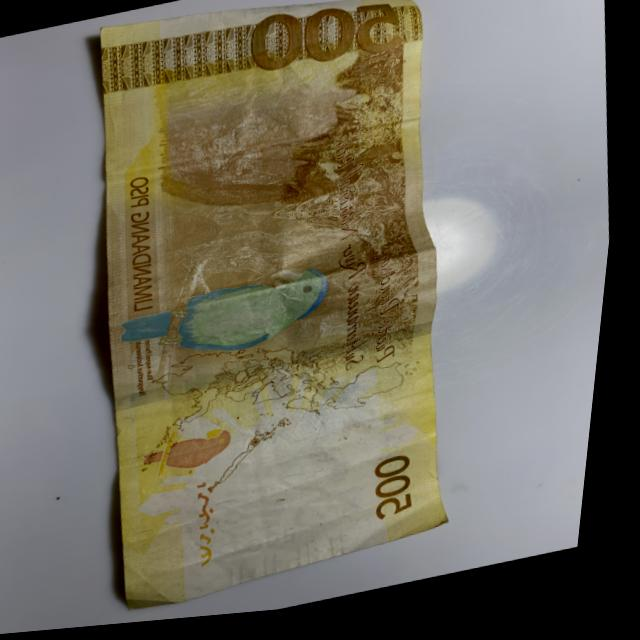500_big_parrot: (117, 263, 341, 376)
500_parrot_watermark: (149, 426, 247, 483)
value_watermark: (259, 531, 307, 560)
